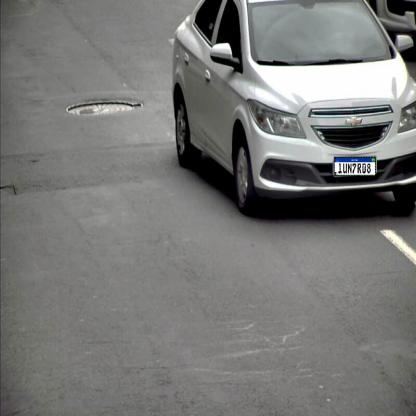PlacaM: (334, 157, 376, 176)
